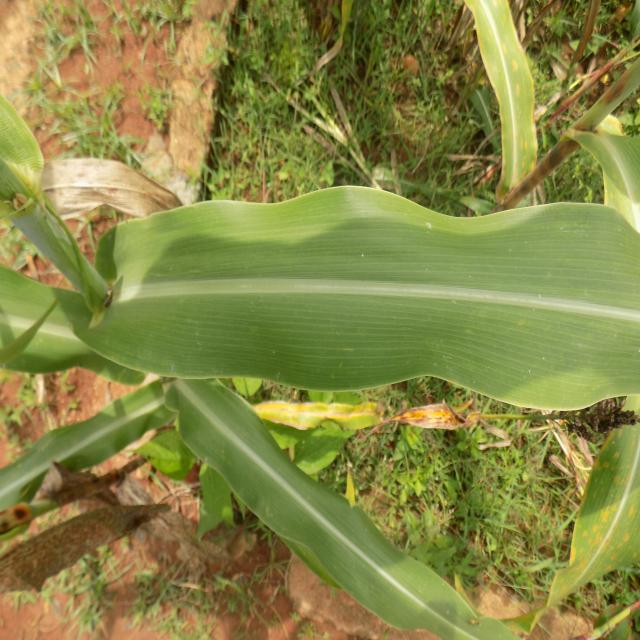millet_healthy: (77, 184, 640, 412), (154, 379, 528, 640)
